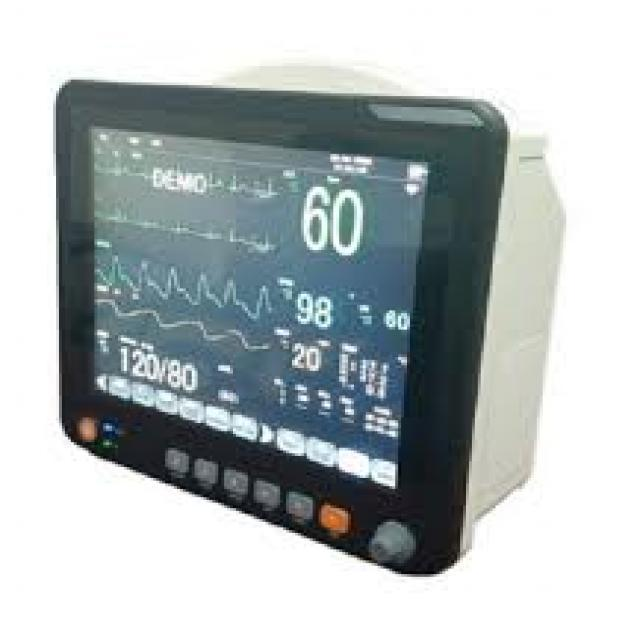cardiac_monitor: (56, 75, 493, 595)
